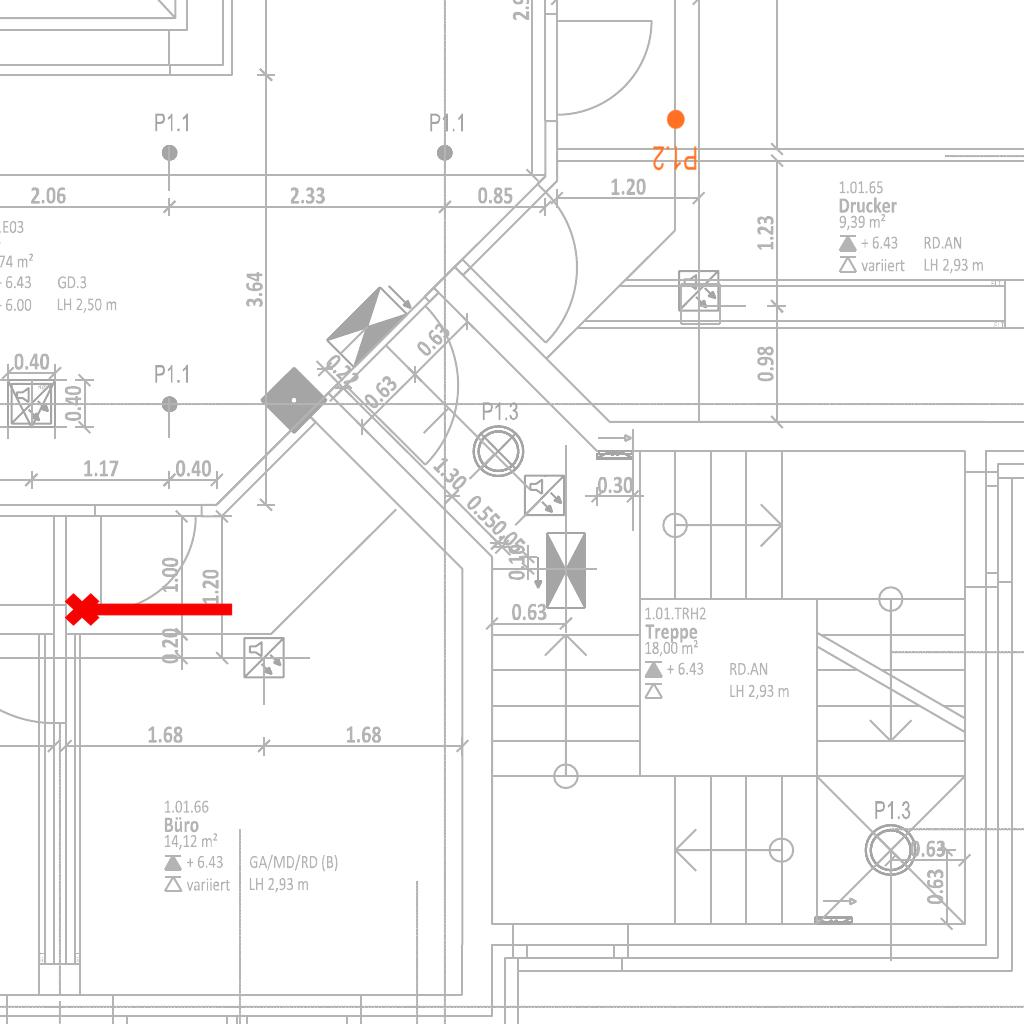ASR_Ansaugoeffnung: (62, 584, 238, 630)
Downlight_LED_Einbauleuchten_Flur: (652, 108, 698, 172)
